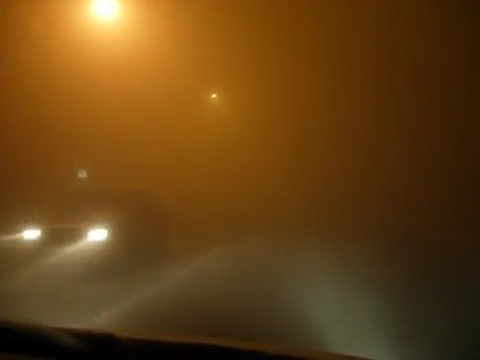car: (17, 189, 183, 273)
